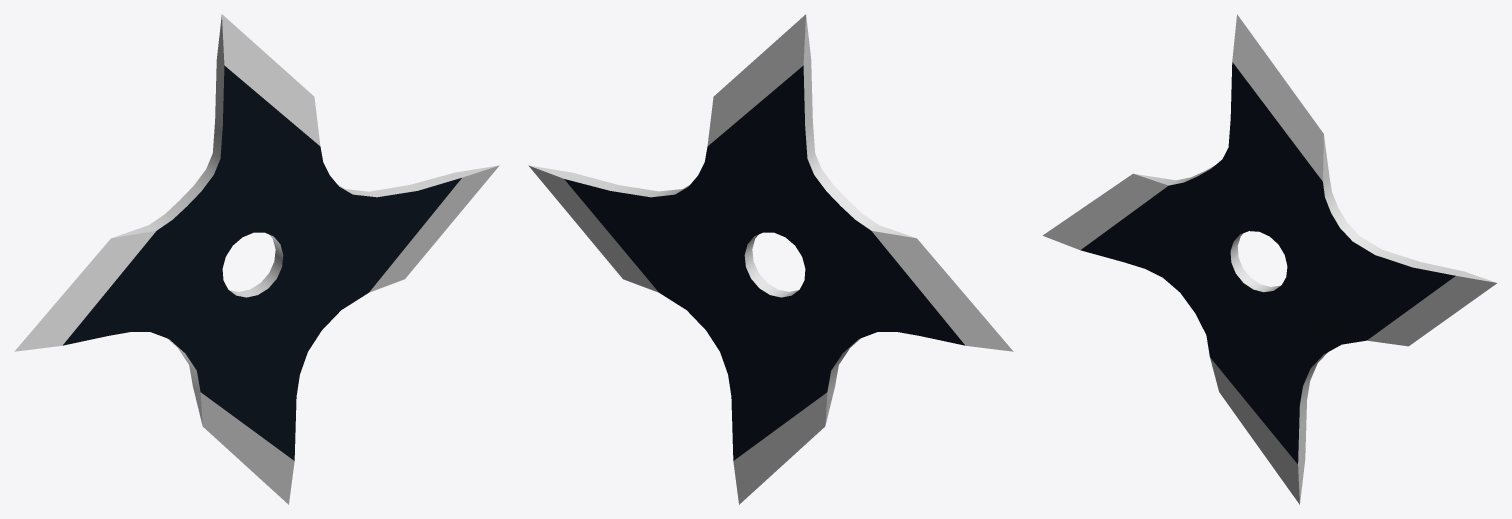
The model's file is scene_MnXwvRpBrb.glb.
3 views of the same model, side by side, from view 1: azimuth 30°, elevation 25°; view 2: azimuth 150°, elevation 25°; view 3: azimuth 330°, elevation 25° (orthographic). The views are drawn at different scales.
Visible parts, largest first — view 1: Shuriken_5; view 2: Shuriken_5; view 3: Shuriken_5.
Boxes of the visible parts, x1,y1,x2,y2 form: Shuriken_5: (14, 14, 499, 504); Shuriken_5: (528, 14, 1013, 504); Shuriken_5: (1042, 14, 1496, 504).
Size of the model in its own units: 1.85 by 1.84 by 0.0569.
